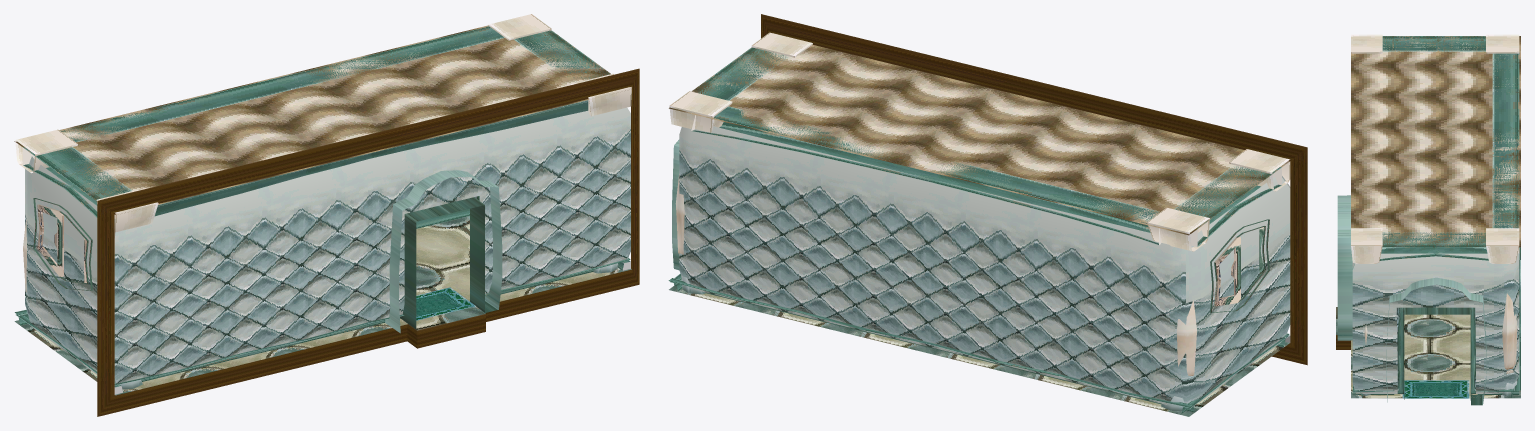
File: room_05.glb
3 views of the same model, side by side, from view 1: azimuth 30°, elevation 25°; view 2: azimuth 150°, elevation 25°; view 3: azimuth 270°, elevation 25° (orthographic). The views are drawn at different scales.
Visible parts, largest first — view 1: room_05; view 2: room_05; view 3: room_05.
Boxes of the visible parts, <box> form: room_05: <box>14,14,639,416</box>; room_05: <box>668,14,1307,416</box>; room_05: <box>1336,34,1520,405</box>.
Bounding box in the file's own units: 1600 × 600 × 555.
14 materials, 13 textured.
